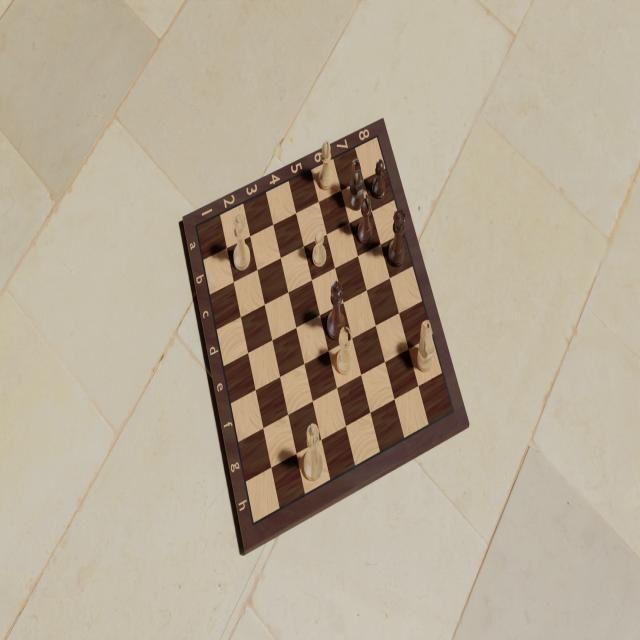black-bishop: (356, 193, 374, 247)
black-king: (325, 278, 347, 342)
black-knight: (347, 158, 365, 214)
black-pawn: (370, 157, 387, 202)
black-queen: (387, 205, 407, 271)
white-bishop: (316, 142, 335, 194)
white-king: (302, 422, 323, 485)
white-knight: (414, 318, 436, 374)
white-pawn: (311, 227, 329, 268)
white-queen: (230, 211, 254, 273)
white-rook: (335, 325, 352, 378)
